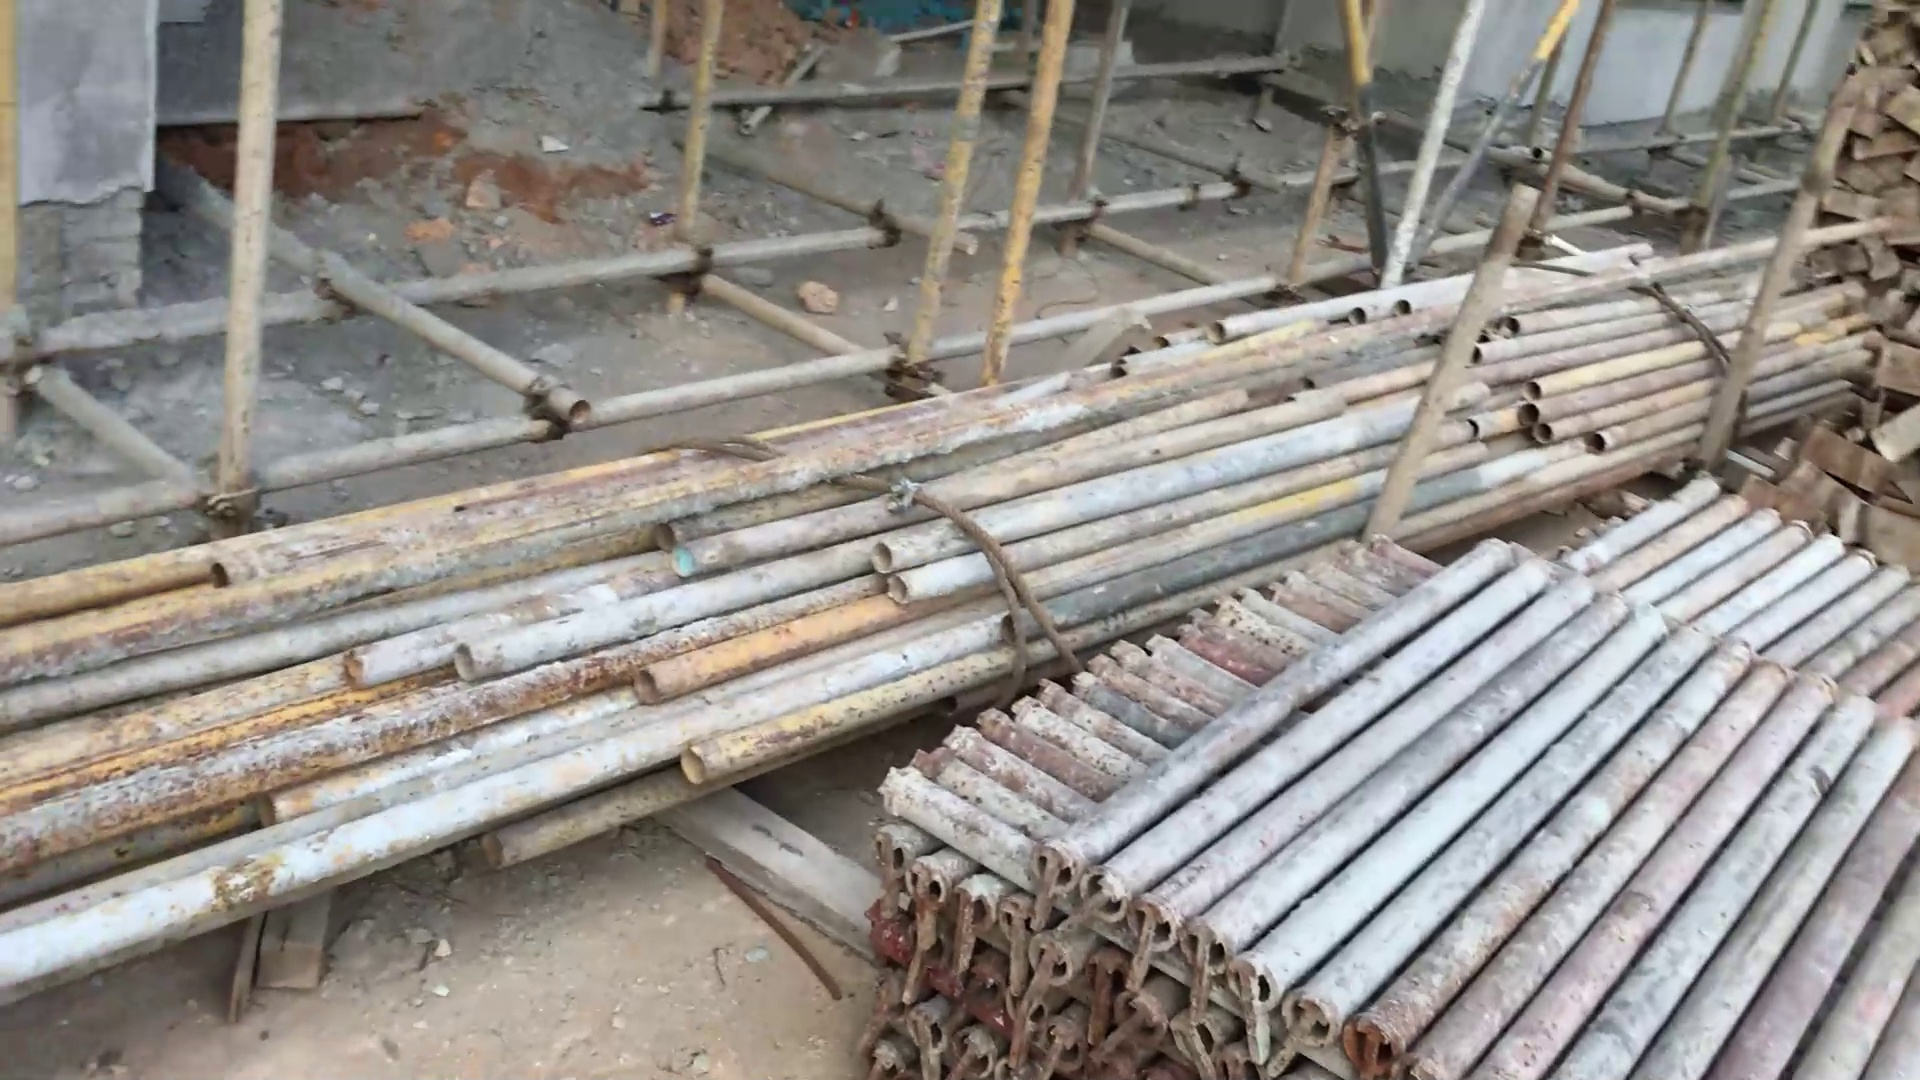scaffold: (857, 527, 1920, 1075)
